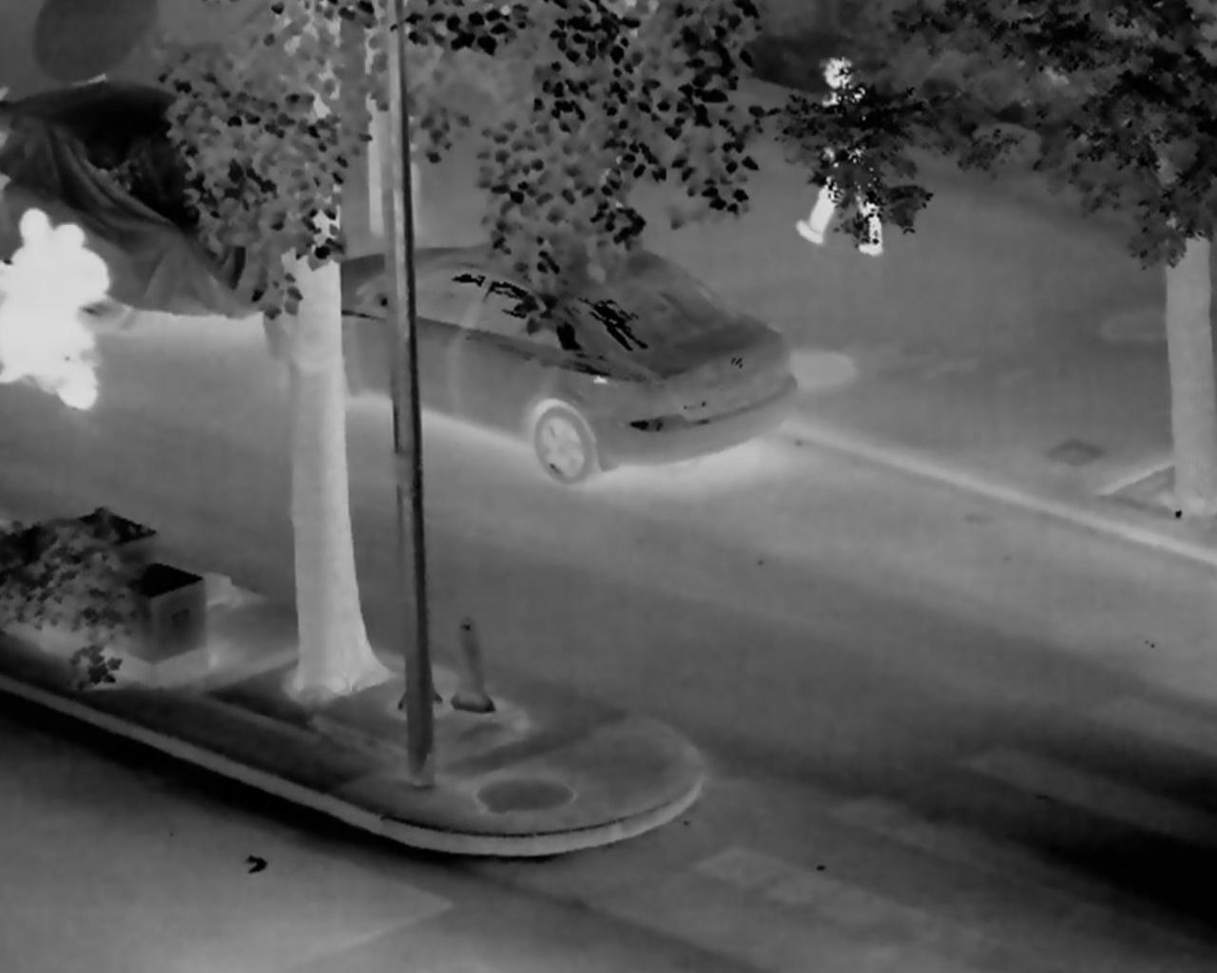person: (795, 57, 885, 257), (28, 224, 91, 377), (3, 208, 49, 386)
